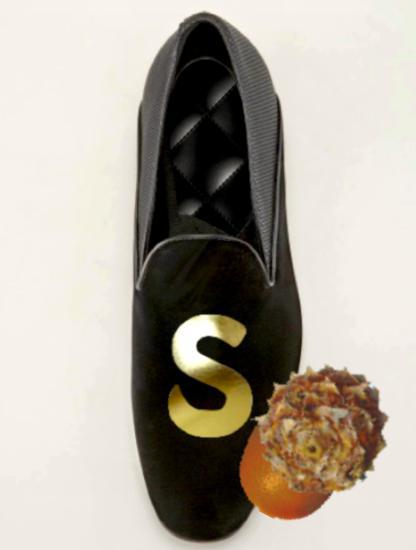Grapefruit: (233, 403, 351, 521)
Pineapple: (248, 358, 392, 502)
